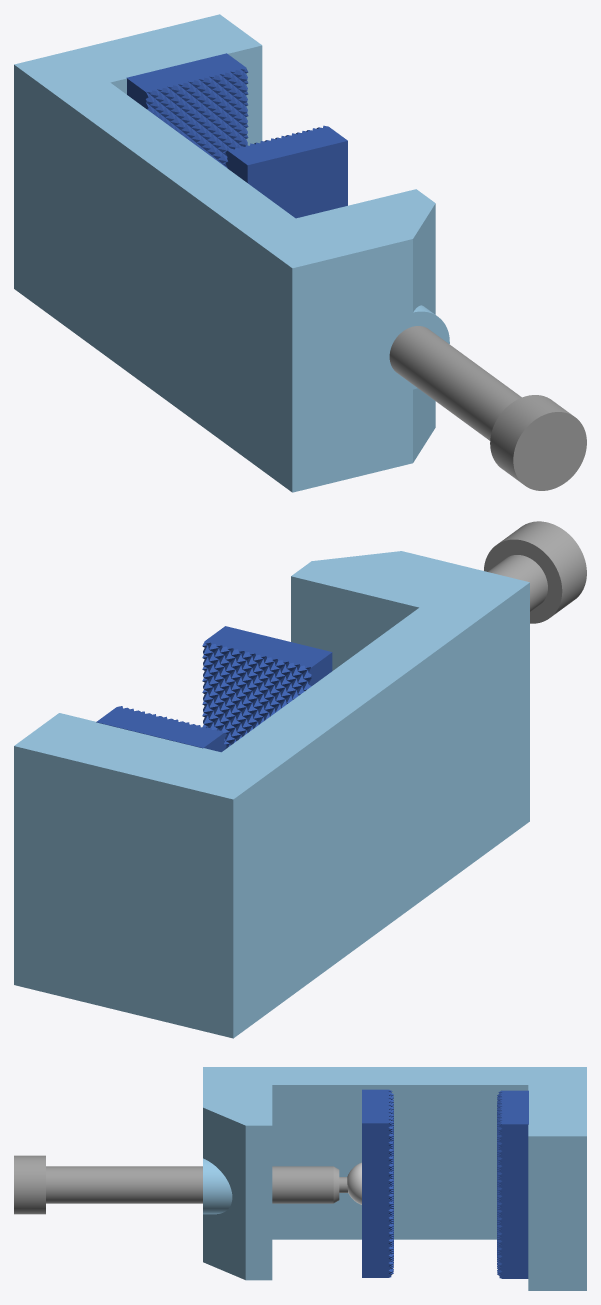
The model's file is Vice.obj.
3 renders of one model, top to bottom at view 1: azimuth 30°, elevation 25°; view 2: azimuth 150°, elevation 25°; view 3: azimuth 270°, elevation 25°, orthographic. The views are drawn at different scales.
Parts seen in each view (by area): view 1: mesh2098, mesh2095, mesh2100, mesh2085, mesh412, mesh2082, mesh2093, mesh2083, mesh2070, mesh411, mesh2103, mesh1784; view 2: mesh2098, mesh2099, mesh2100, mesh2097, mesh2083, mesh411, mesh2070, mesh2084, mesh2085, mesh1784; view 3: mesh2104, mesh2100, mesh2102, mesh2078, mesh2085, mesh2093, mesh2094, mesh2083, mesh2092, mesh2070, mesh411, mesh6.
Boxes of the visible parts, x1,y1,x2,y2 form: mesh2098: [14, 65, 292, 491]; mesh2095: [292, 239, 449, 492]; mesh2100: [14, 14, 435, 268]; mesh2085: [389, 326, 521, 440]; mesh412: [247, 141, 347, 218]; mesh2082: [513, 412, 586, 490]; mesh2093: [413, 204, 435, 462]; mesh2083: [490, 395, 572, 483]; mesh2070: [126, 53, 245, 92]; mesh411: [228, 125, 347, 165]; mesh2103: [110, 45, 262, 145]; mesh1784: [127, 78, 247, 182]; mesh2098: [233, 582, 529, 1038]; mesh2099: [14, 746, 233, 1038]; mesh2100: [14, 551, 529, 799]; mesh2097: [291, 576, 418, 670]; mesh2083: [498, 521, 586, 615]; mesh411: [205, 626, 331, 667]; mesh2070: [96, 706, 223, 747]; mesh2084: [484, 539, 562, 623]; mesh2085: [488, 555, 547, 611]; mesh1784: [204, 652, 332, 752]; mesh2104: [272, 1085, 528, 1239]; mesh2100: [203, 1067, 586, 1136]; mesh2102: [528, 1136, 586, 1290]; mesh2078: [362, 1123, 528, 1278]; mesh2085: [46, 1166, 333, 1203]; mesh2093: [203, 1107, 245, 1279]; mesh2094: [245, 1125, 272, 1280]; mesh2083: [14, 1155, 45, 1214]; mesh2092: [203, 1158, 232, 1214]; mesh2070: [499, 1090, 528, 1124]; mesh411: [362, 1089, 391, 1123]; mesh6: [347, 1162, 361, 1204].
Bounding box in the file's own units: 0.0615 × 0.0645 × 0.2149.
